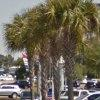Palm tree: (9, 8, 86, 75)
